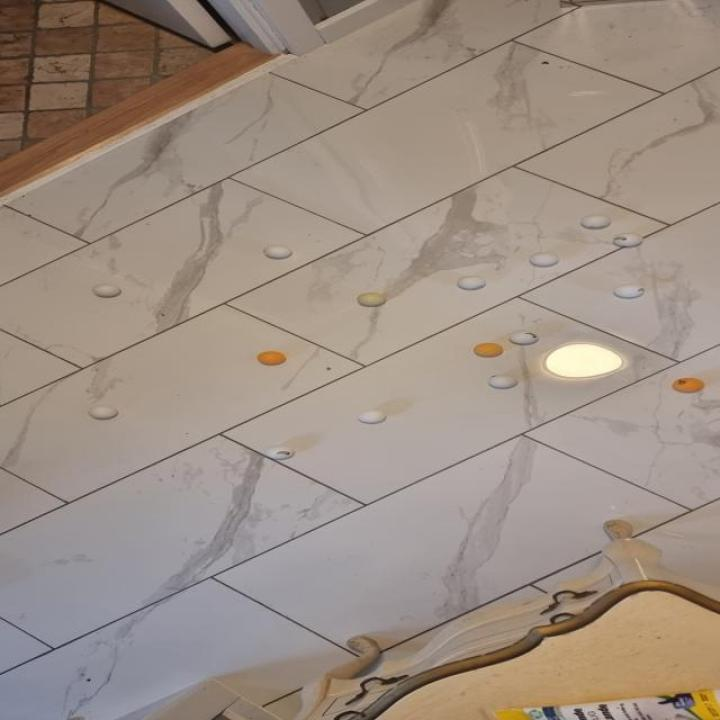orange: (672, 378, 706, 393), (472, 342, 504, 357), (258, 351, 286, 365)
white: (613, 232, 645, 247), (580, 214, 612, 228), (458, 275, 487, 290), (264, 445, 294, 459), (90, 283, 120, 297), (615, 284, 645, 298), (87, 406, 119, 419), (489, 374, 518, 388), (358, 409, 386, 423), (357, 292, 385, 306), (508, 331, 538, 344), (529, 253, 558, 266), (264, 245, 292, 258)
